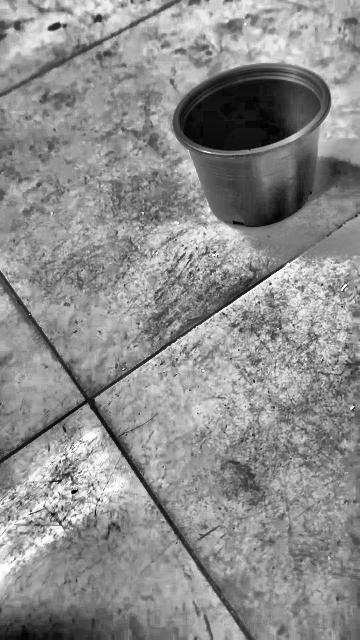pot: (171, 63, 331, 227)
